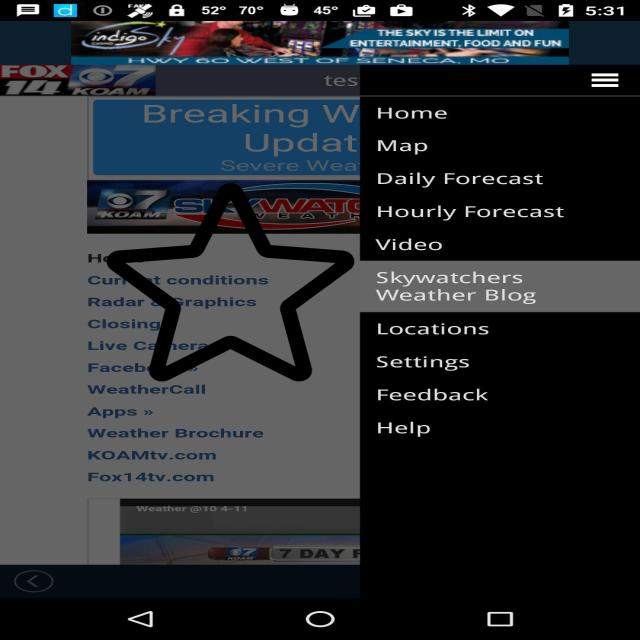forced continuity: (107, 178, 354, 386)
